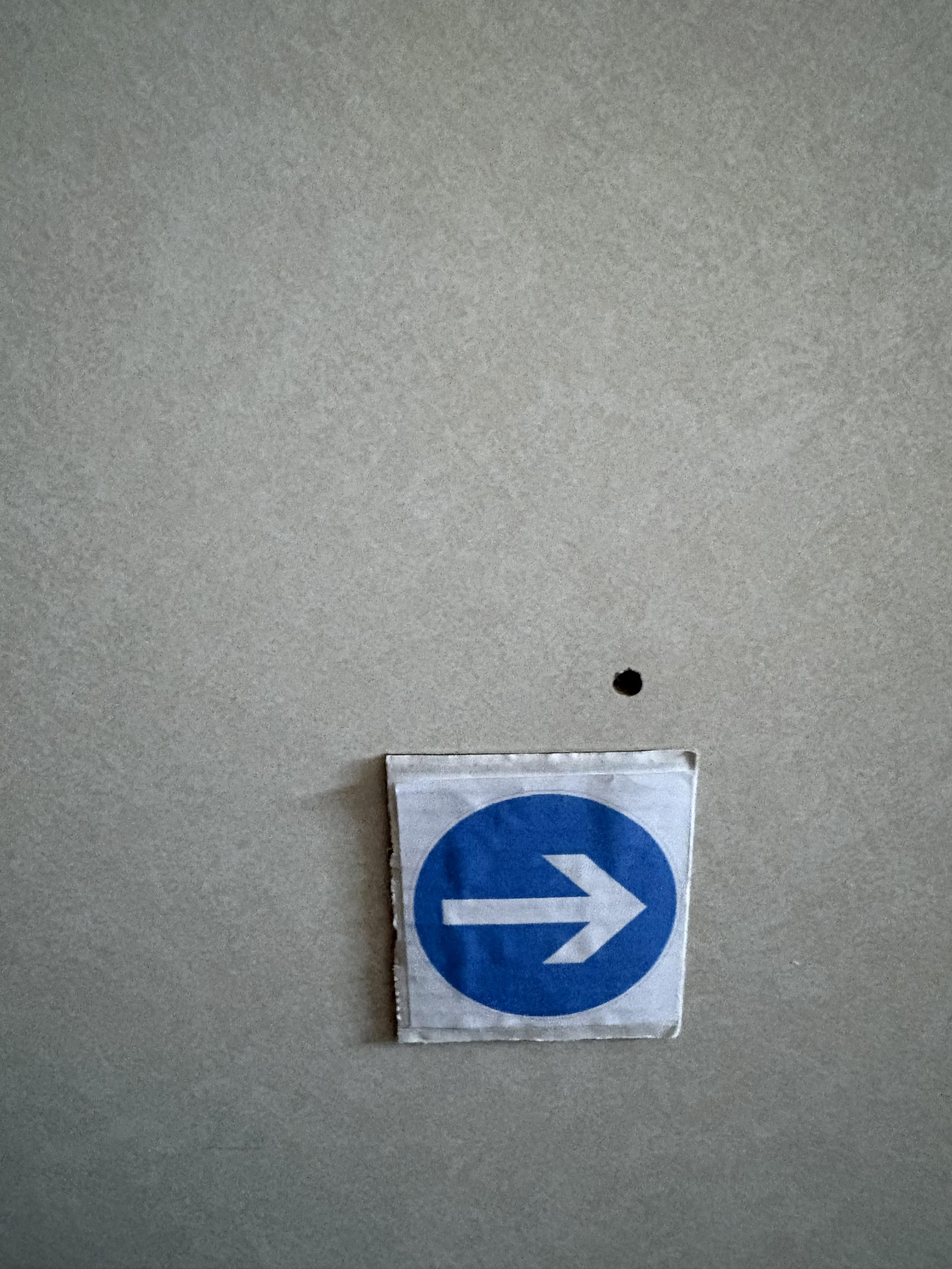Proceed Right: (387, 747, 698, 1051)
